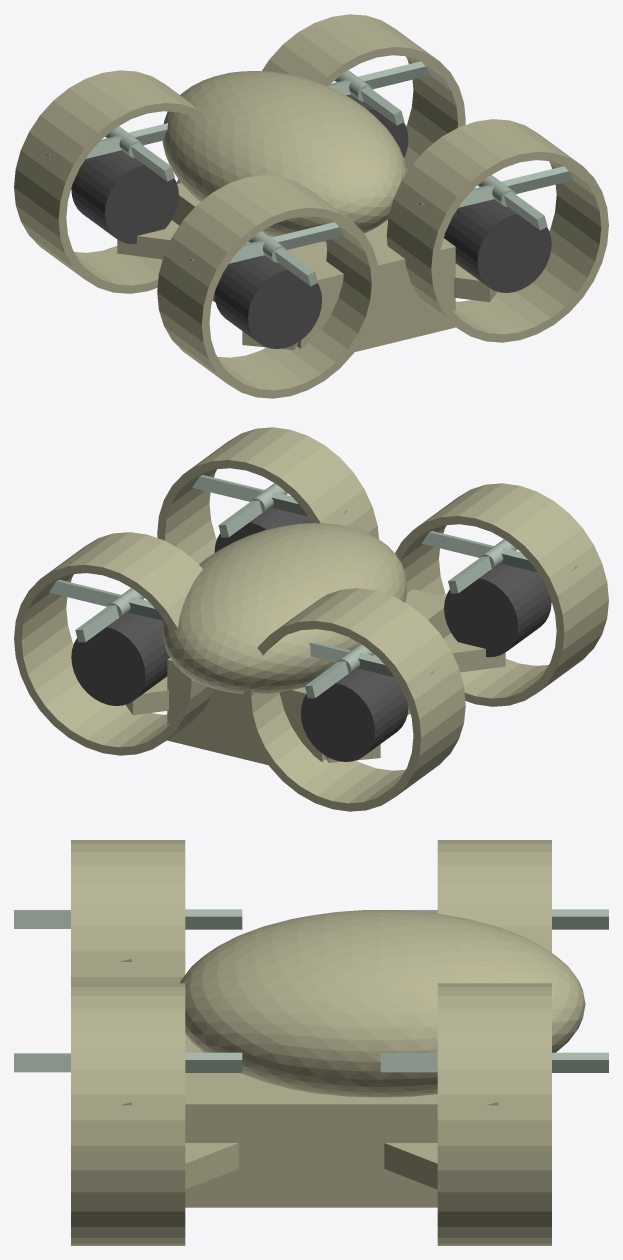
Rendered from Cetus PRO.glb.
3 renders of one model, top to bottom at view 1: azimuth 30°, elevation 25°; view 2: azimuth 150°, elevation 25°; view 3: azimuth 270°, elevation 25°, orthographic. The views are drawn at different scales.
Visible parts, largest first — view 1: canopy, duct_0, duct_2, duct_3, duct_1, frame_body, motor_2, motor_0, motor_3, prop_0, prop_2, prop_1 (+4 smaller); view 2: canopy, duct_3, duct_1, duct_2, duct_0, motor_3, motor_2, frame_body, motor_1, prop_2, prop_0, prop_1 (+4 smaller); view 3: canopy, duct_1, duct_0, frame_body, duct_2, duct_3, prop_0, prop_1, prop_2, arm_0, arm_1, prop_3.
Part boxes in pixels (<box>): canopy: <box>162,71,406,241</box>; duct_0: <box>386,119,608,342</box>; duct_2: <box>157,175,379,398</box>; duct_3: <box>14,70,202,293</box>; duct_1: <box>262,14,465,172</box>; frame_body: <box>172,183,455,352</box>; motor_2: <box>214,255,321,348</box>; motor_0: <box>444,199,551,292</box>; motor_3: <box>71,150,178,244</box>; prop_0: <box>418,166,573,230</box>; prop_2: <box>188,222,343,286</box>; prop_1: <box>328,61,429,125</box>; canopy: <box>162,523,406,693</box>; duct_3: <box>243,588,465,811</box>; duct_1: <box>14,532,213,755</box>; duct_2: <box>395,483,608,706</box>; duct_0: <box>157,427,378,564</box>; motor_3: <box>301,668,408,761</box>; motor_2: <box>444,563,551,657</box>; frame_body: <box>167,589,450,765</box>; motor_1: <box>71,612,169,705</box>; prop_2: <box>421,531,576,593</box>; prop_0: <box>192,475,346,537</box>; prop_1: <box>49,580,163,642</box>; canopy: <box>180,910,585,1097</box>; duct_1: <box>437,983,551,1245</box>; duct_0: <box>71,983,185,1245</box>; frame_body: <box>185,1034,437,1207</box>; duct_2: <box>71,840,185,983</box>; duct_3: <box>437,840,551,952</box>; prop_0: <box>14,1052,242,1105</box>; prop_1: <box>380,1052,608,1105</box>; prop_2: <box>14,909,242,961</box>; arm_0: <box>185,1143,238,1189</box>; arm_1: <box>384,1143,437,1189</box>; prop_3: <box>397,909,608,929</box>.
Size of the model in its own units: 0.1054 by 0.046 by 0.1042.
